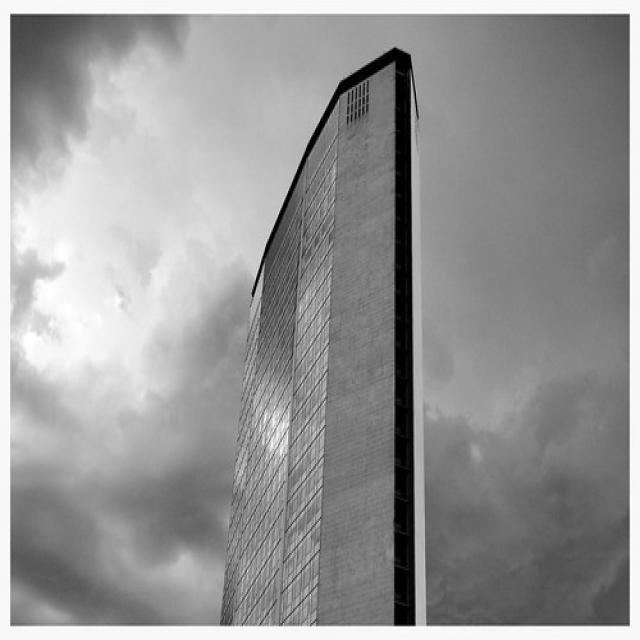Normal_building: (213, 36, 433, 628)
